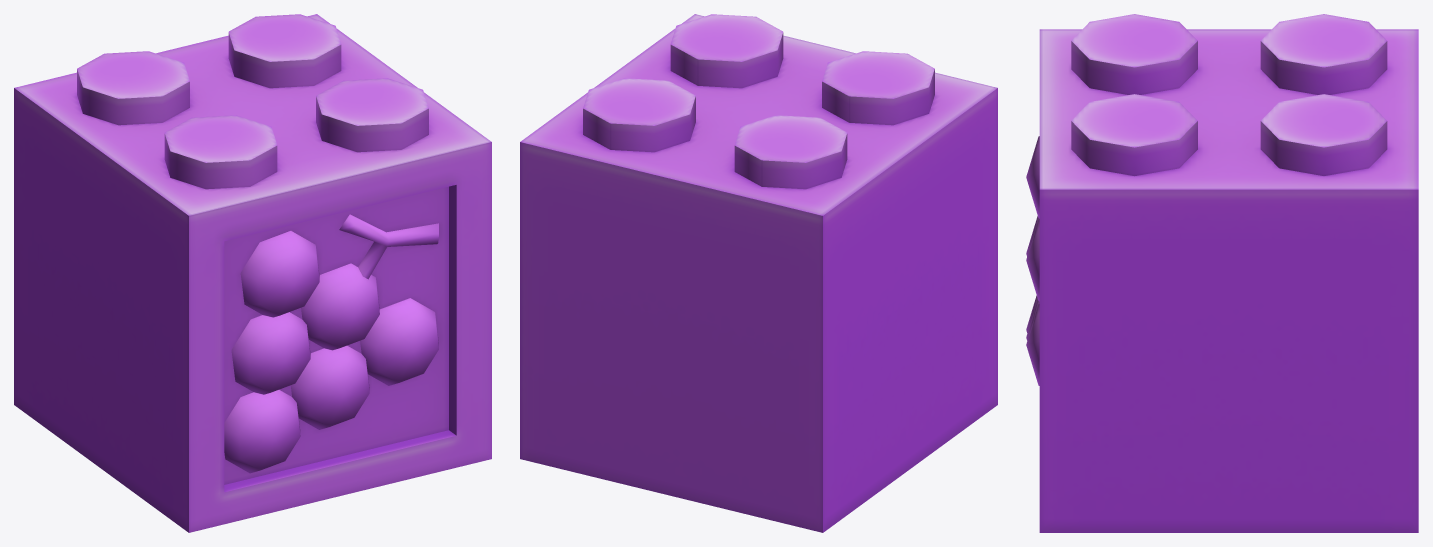
The model's file is block_purple.fbx.
The picture shows the model from 3 angles, left to right: view 1: azimuth 30°, elevation 25°; view 2: azimuth 150°, elevation 25°; view 3: azimuth 270°, elevation 25°; orthographic projection. The views are drawn at different scales.
Parts seen in each view (by area): view 1: block_purple; view 2: block_purple; view 3: block_purple.
Boxes of the visible parts, left/top/right/bottom form: block_purple: left=14, top=14, right=491, bottom=532; block_purple: left=520, top=14, right=997, bottom=532; block_purple: left=1026, top=14, right=1418, bottom=532.
Bounding box in the file's own units: 60 × 65 × 62.16.
